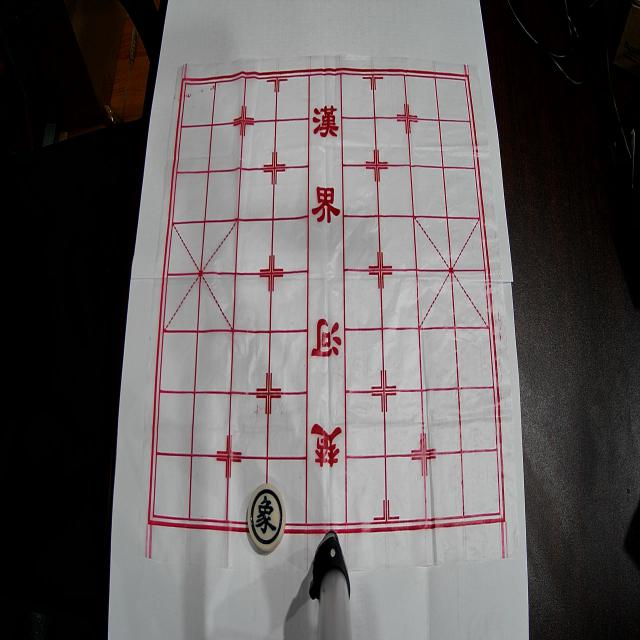black-elephant: (248, 484, 286, 551)
